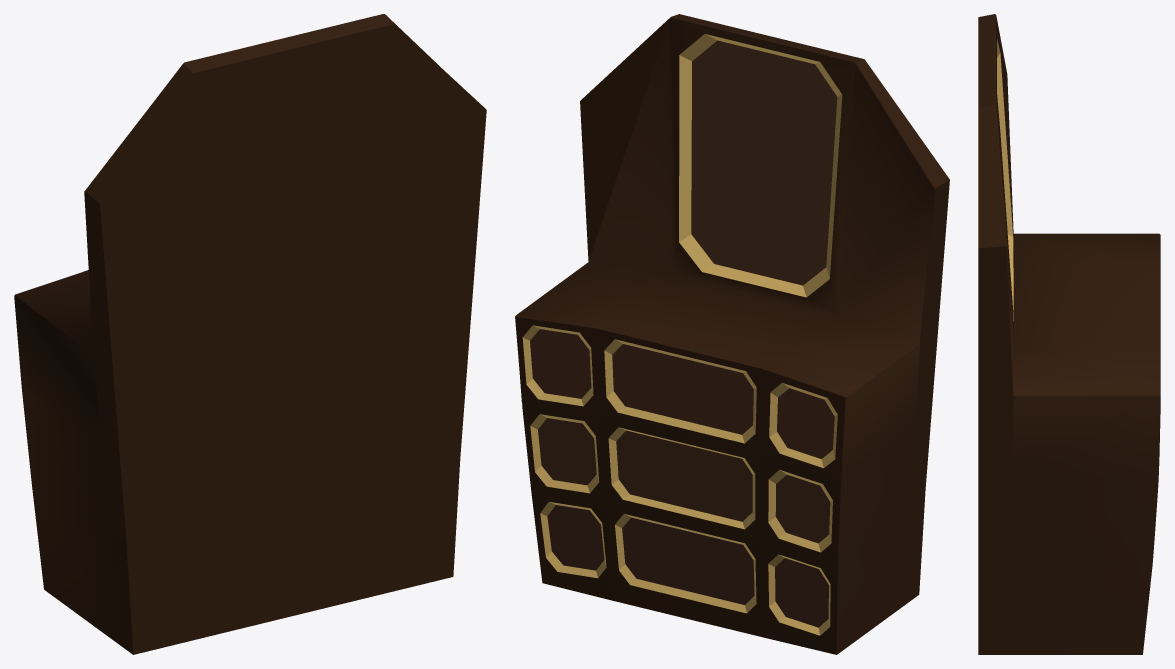
File: BedroomDresser.fbx
3 views of the same model, side by side, from view 1: azimuth 30°, elevation 25°; view 2: azimuth 150°, elevation 25°; view 3: azimuth 270°, elevation 25° (orthographic). The views are drawn at different scales.
Parts seen in each view (by area): view 1: DresserUVd:pCube12; view 2: DresserUVd:pCube12; view 3: DresserUVd:pCube12.
Boxes of the visible parts, bbox=[...] form: DresserUVd:pCube12: bbox=[14, 14, 486, 654]; DresserUVd:pCube12: bbox=[515, 14, 949, 654]; DresserUVd:pCube12: bbox=[978, 14, 1160, 654].
Size of the model in its own units: 174 by 246 by 77.5.
